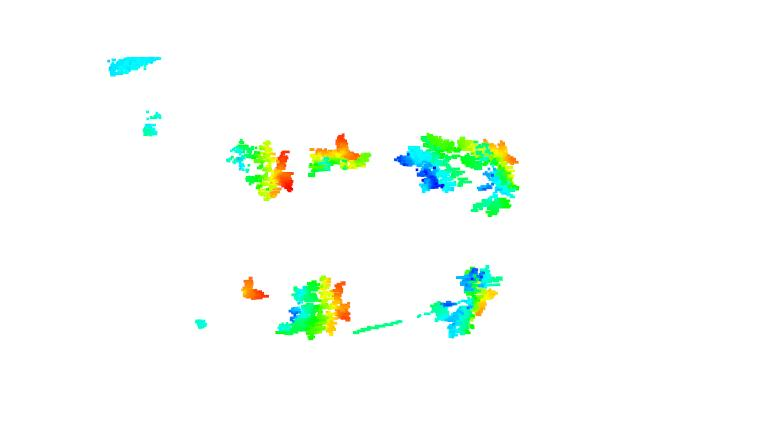chickpea: (429, 261, 512, 339), (392, 132, 484, 197), (271, 275, 350, 338), (466, 137, 522, 216), (224, 138, 296, 199), (301, 132, 376, 179), (236, 273, 267, 304)
